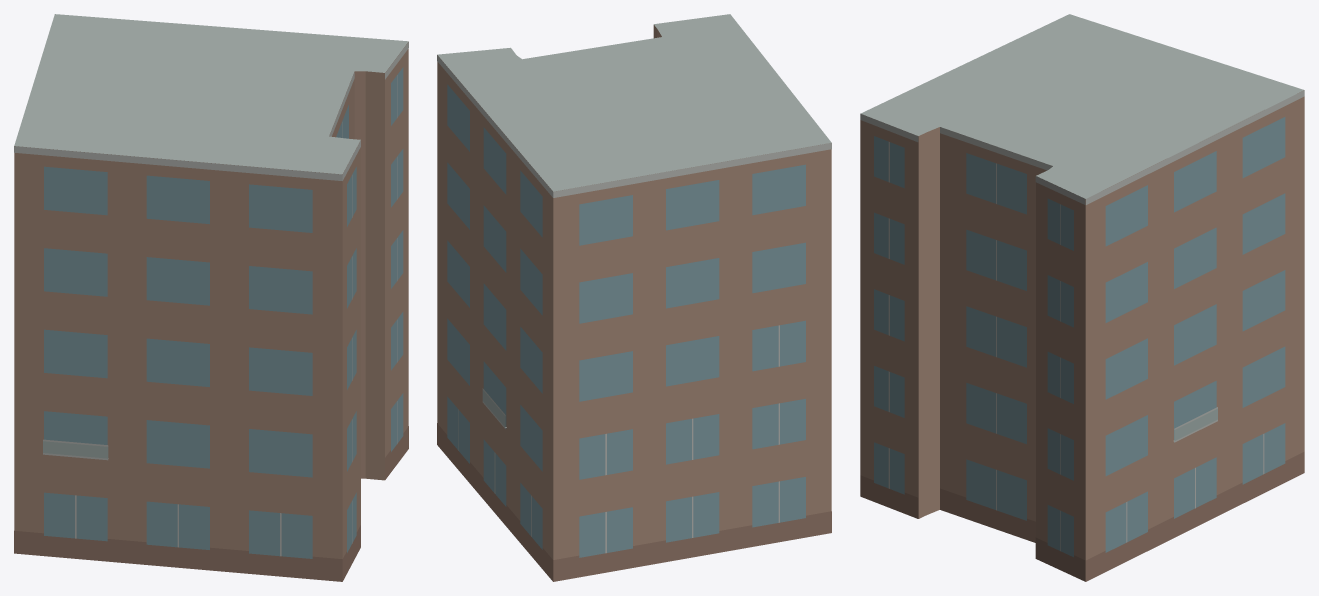
The model's file is survey-upis-32982892.glb.
The picture shows the model from 3 angles, left to right: view 1: azimuth 30°, elevation 25°; view 2: azimuth 150°, elevation 25°; view 3: azimuth 270°, elevation 25°; orthographic projection. The views are drawn at different scales.
Parts seen in each view (by area): view 1: survey-upis-32982892.tmp; view 2: survey-upis-32982892.tmp; view 3: survey-upis-32982892.tmp.
Boxes of the visible parts, bbox=[...] form: survey-upis-32982892.tmp: bbox=[14, 14, 408, 581]; survey-upis-32982892.tmp: bbox=[437, 14, 831, 581]; survey-upis-32982892.tmp: bbox=[860, 14, 1304, 581].
Bounding box in the file's own units: 15.24 × 14.7 × 15.46.
